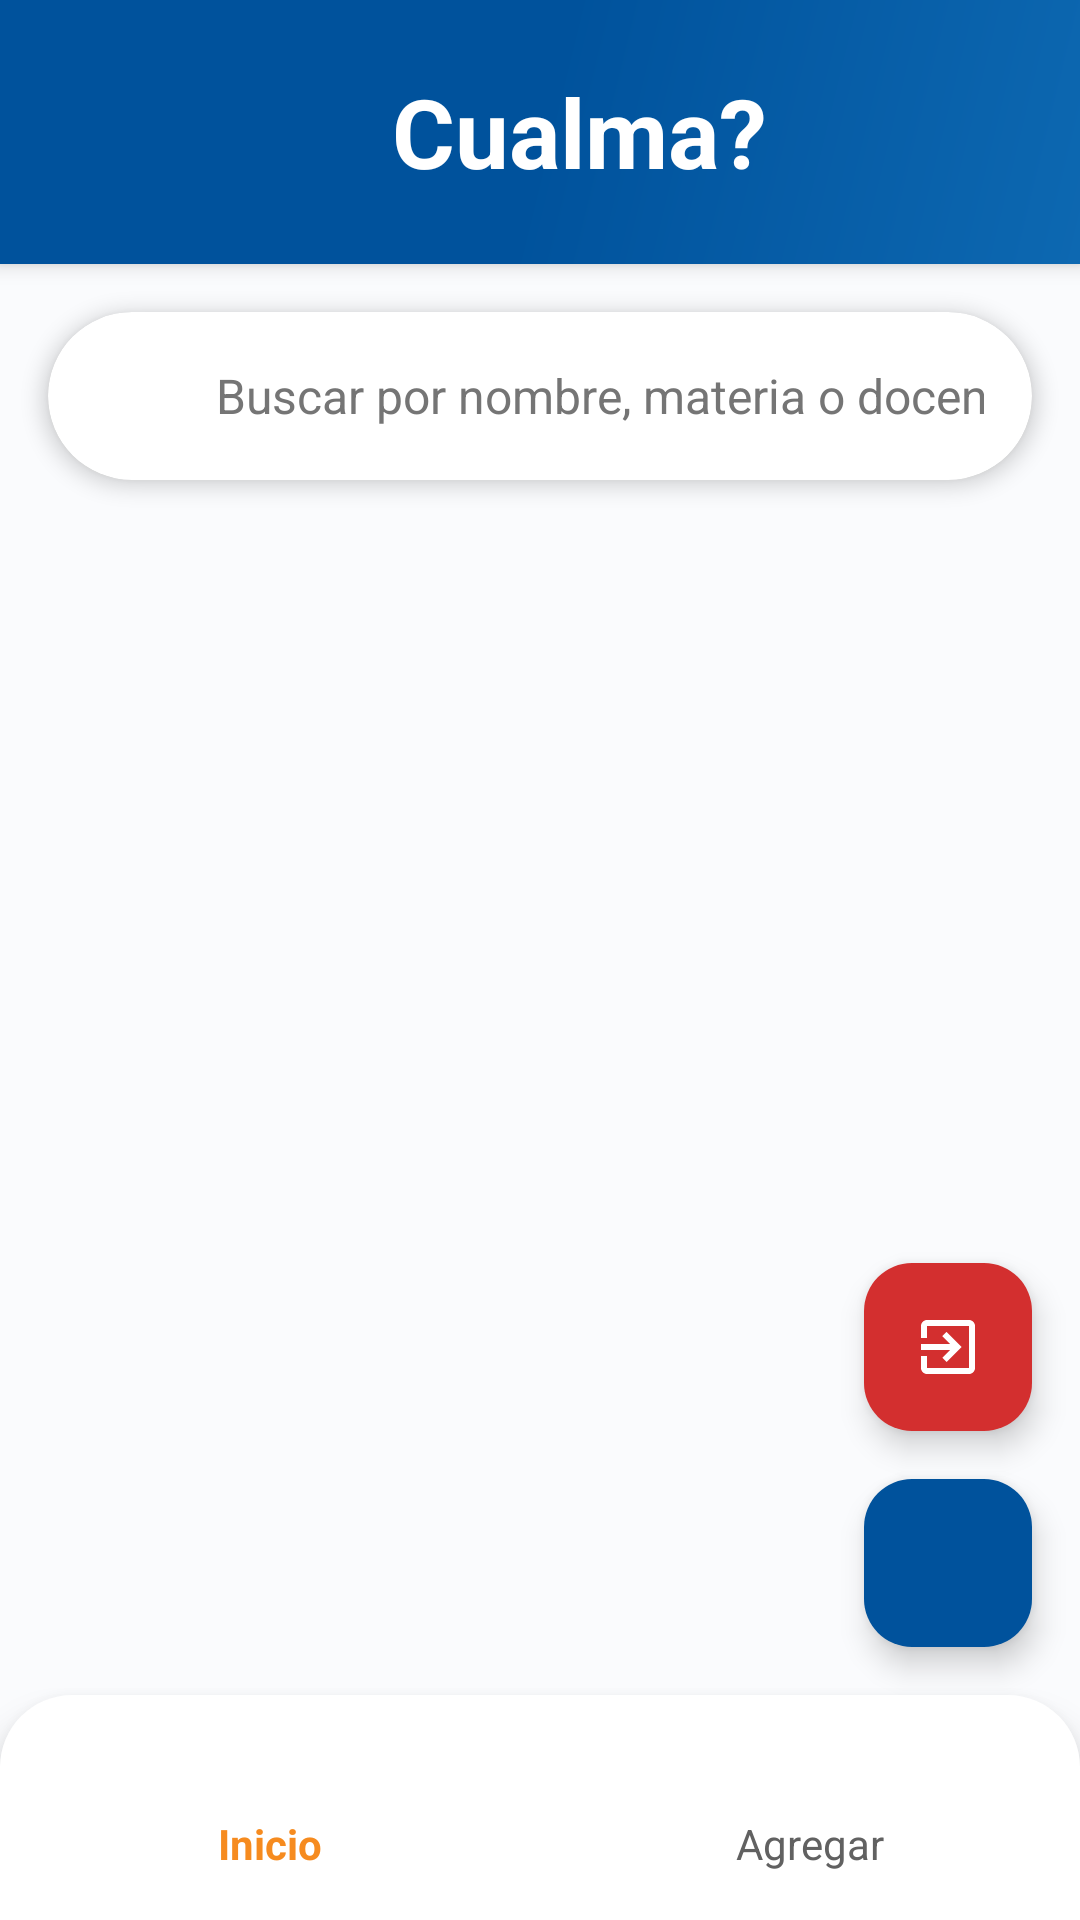

Point at icon controls on the screen. Image size 1080px x 1920px, points as [x,y].
exit: [948,1347]
